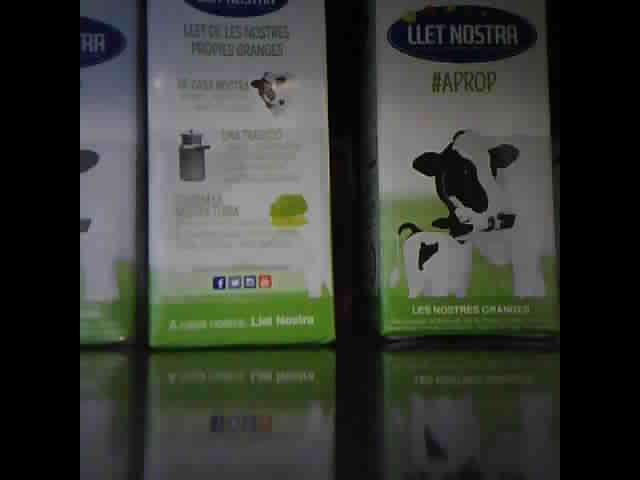leche: (147, 3, 334, 350), (361, 1, 553, 335), (80, 3, 142, 343)
